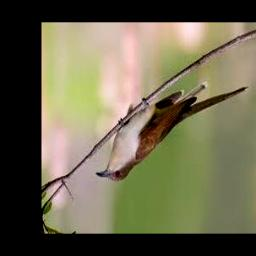Cuckoo: (95, 82, 249, 181)
